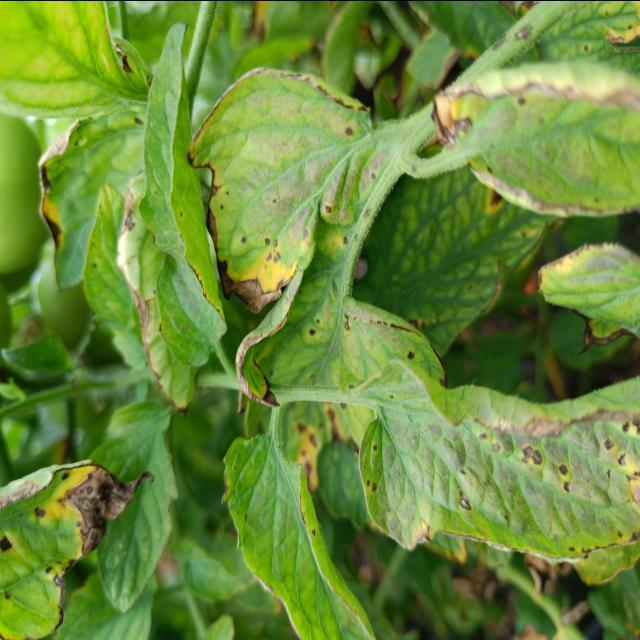Tomato mosaic virus leaf: (357, 354, 639, 566), (188, 62, 390, 350), (0, 455, 159, 640)
